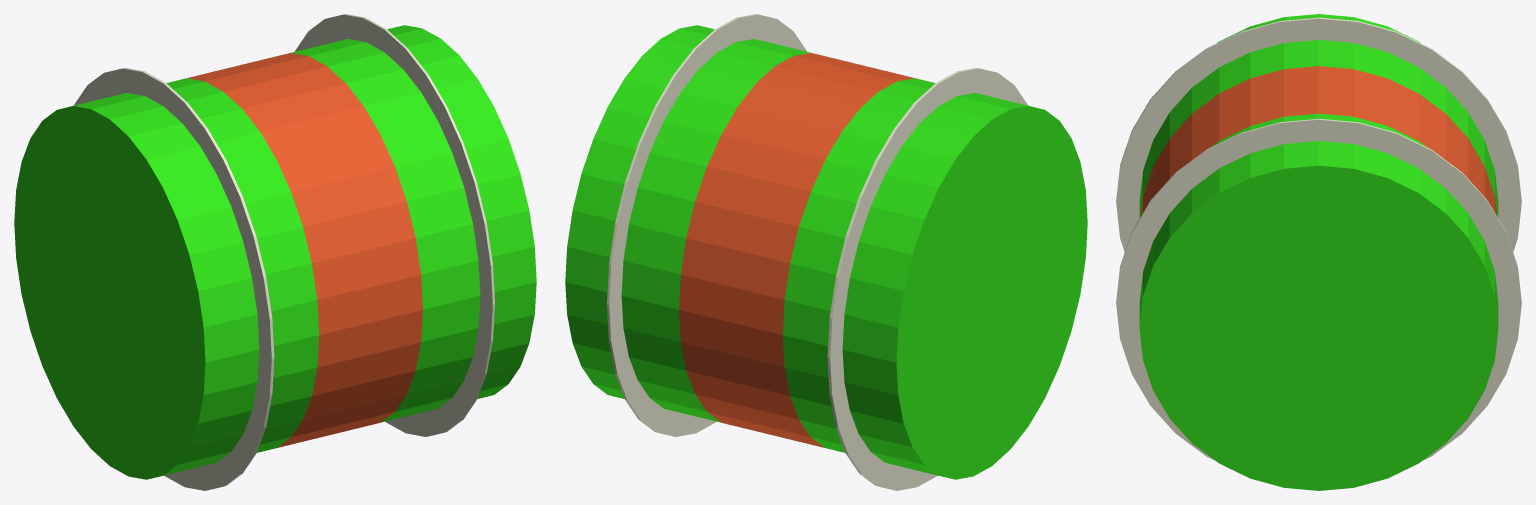
File: World.fbx
The picture shows the model from 3 angles, left to right: view 1: azimuth 30°, elevation 25°; view 2: azimuth 150°, elevation 25°; view 3: azimuth 270°, elevation 25°; orthographic projection. The views are drawn at different scales.
Visible parts, largest first — view 1: Cylinder; view 2: Cylinder; view 3: Cylinder.
Part boxes in pixels (bbox=[...]): Cylinder: bbox=[14, 14, 536, 490]; Cylinder: bbox=[565, 14, 1087, 490]; Cylinder: bbox=[1116, 14, 1521, 490].
Bounding box in the file's own units: 1755 × 1983 × 1983.
